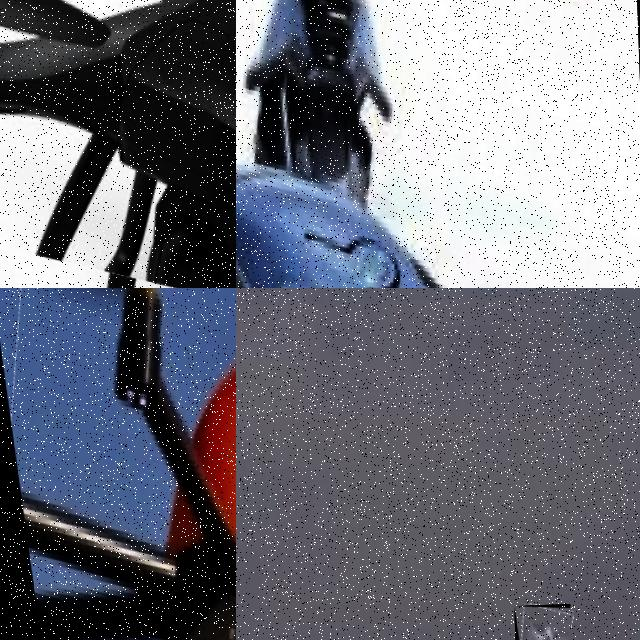drone: (236, 0, 640, 288), (0, 288, 236, 640), (0, 0, 236, 288), (514, 603, 572, 640)
